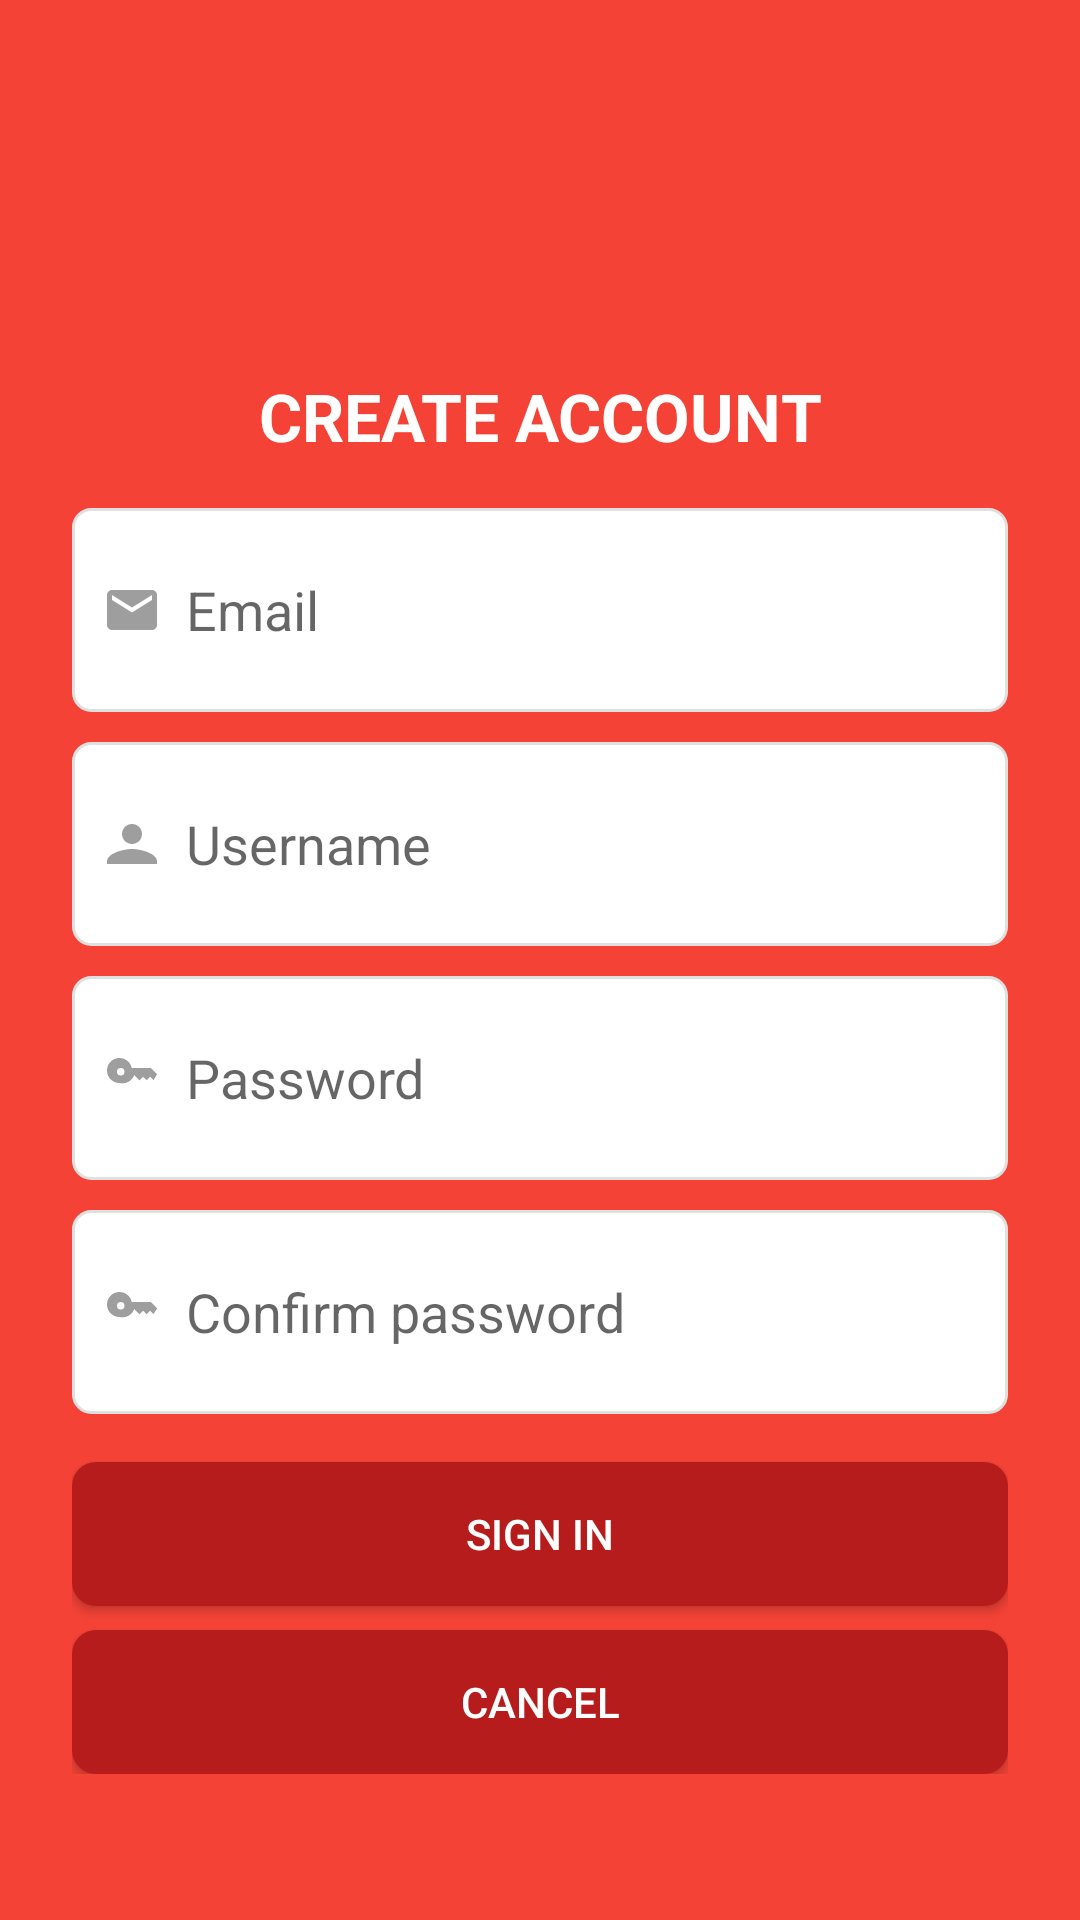

Icon bounding boxes for this 1080px x 1920px phone screenshot, format bbox=(x1, y1, x2, y2):
key: bbox=(107, 1058, 157, 1083), bbox=(107, 1292, 157, 1317)
